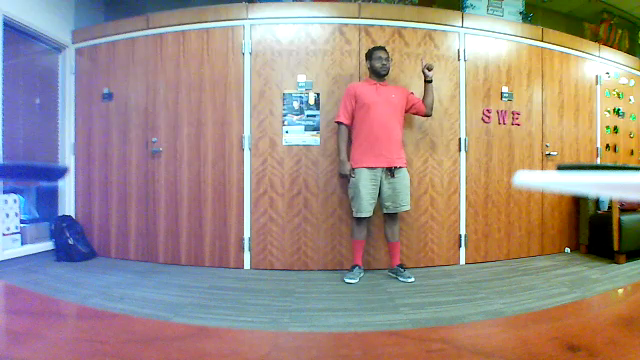up: (416, 52, 439, 86)
